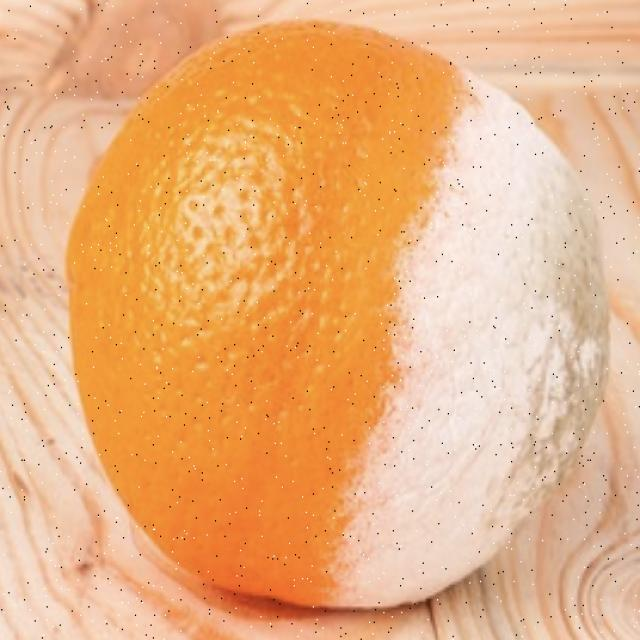sedikit-busuk: (67, 21, 607, 606)
